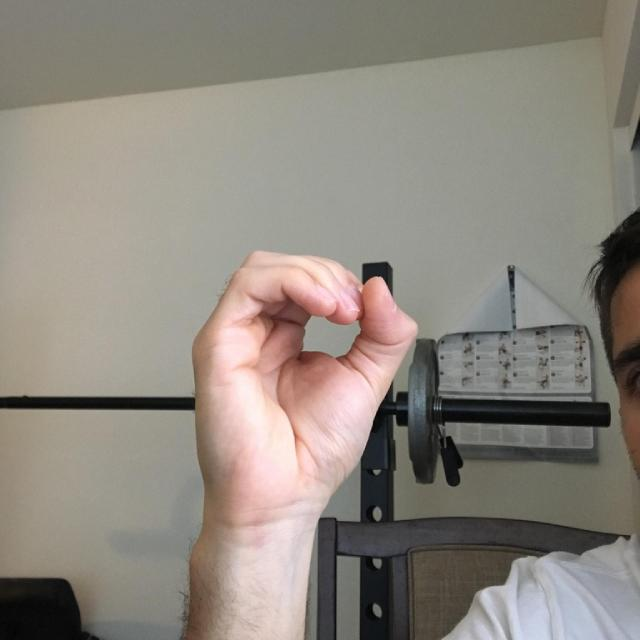O: (165, 227, 430, 550)
